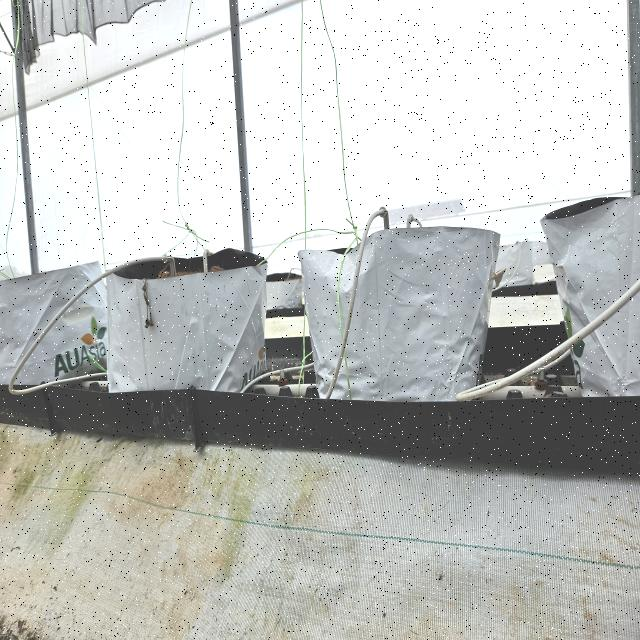Soilbag: (300, 227, 500, 403), (97, 250, 267, 398), (541, 194, 640, 398), (0, 261, 105, 398)
